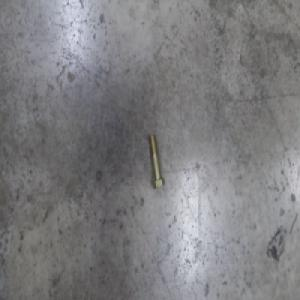Bolt: (147, 133, 165, 190)
